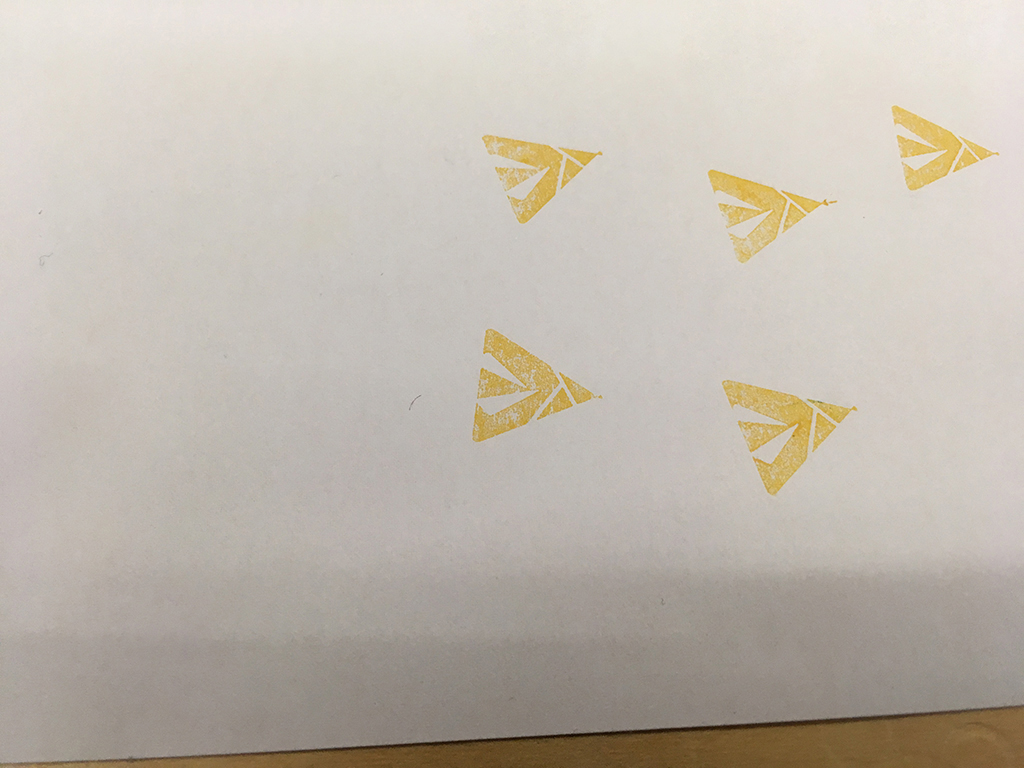tent: (710, 376, 863, 503), (464, 323, 612, 453), (700, 162, 846, 274), (475, 127, 615, 229), (890, 101, 1009, 200)
